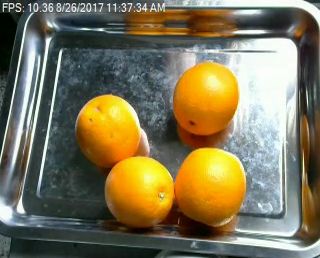Orange: (175, 146, 246, 227), (104, 155, 174, 227), (74, 94, 141, 168), (173, 60, 239, 135)
